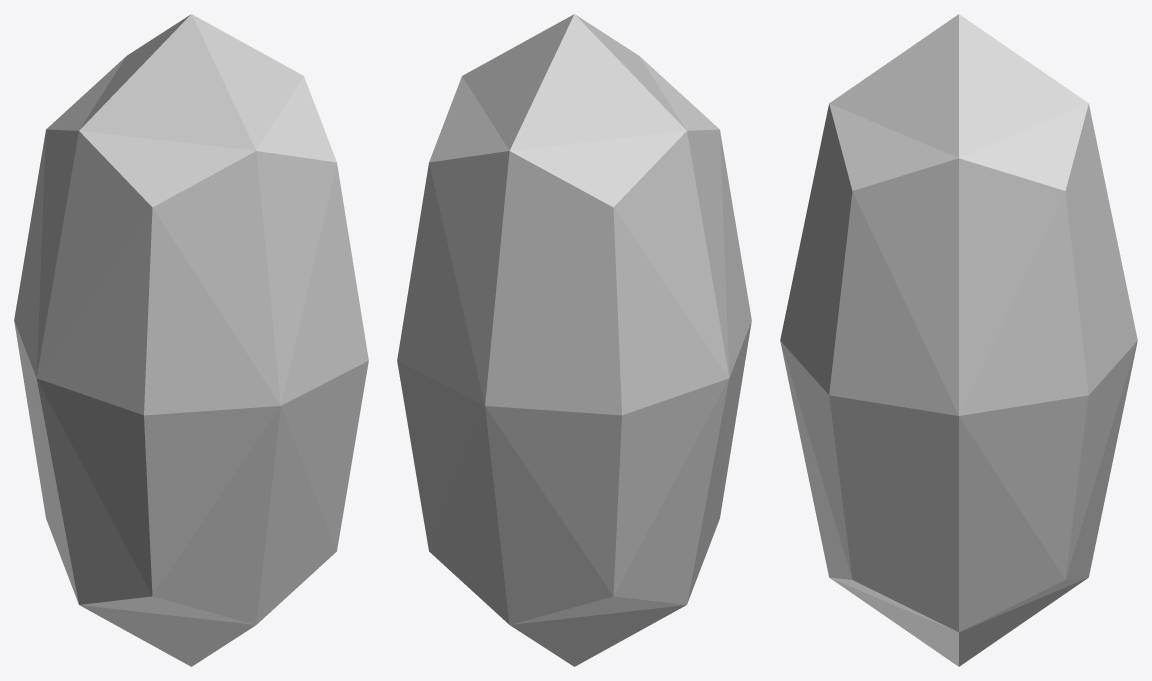
Rendered from kometubu.obj.
The picture shows the model from 3 angles, left to right: view 1: azimuth 30°, elevation 25°; view 2: azimuth 150°, elevation 25°; view 3: azimuth 270°, elevation 25°; orthographic projection.
Parts seen in each view (by area): view 1: 立方体; view 2: 立方体; view 3: 立方体.
Part boxes in pixels (<box>): 立方体: <box>14,14,368,666</box>; 立方体: <box>397,14,751,666</box>; 立方体: <box>780,14,1137,666</box>.
Bounding box in the file's own units: 0.3909 × 0.7874 × 0.3909.
Materials: 1 (1 with a texture image).
